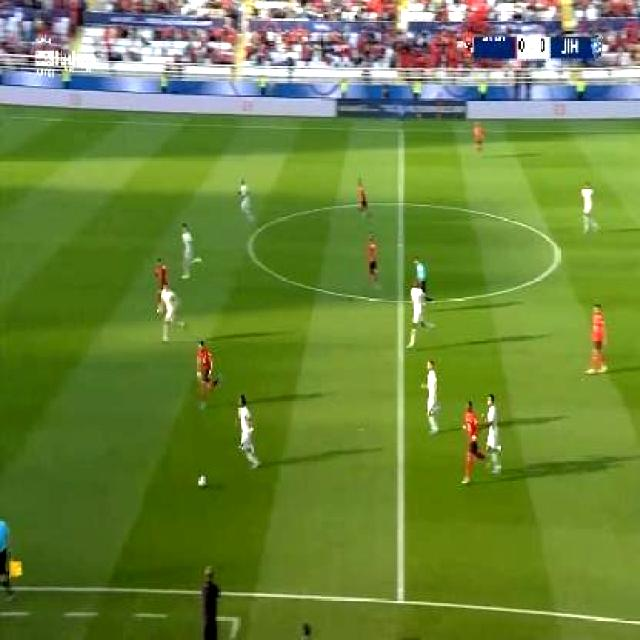halfcircle_bottom: (391, 284, 411, 314)
halfcircle_top: (391, 191, 412, 217)
midline_bottom_intersection: (388, 580, 414, 612)
midline_top_intersection: (394, 118, 409, 140)
